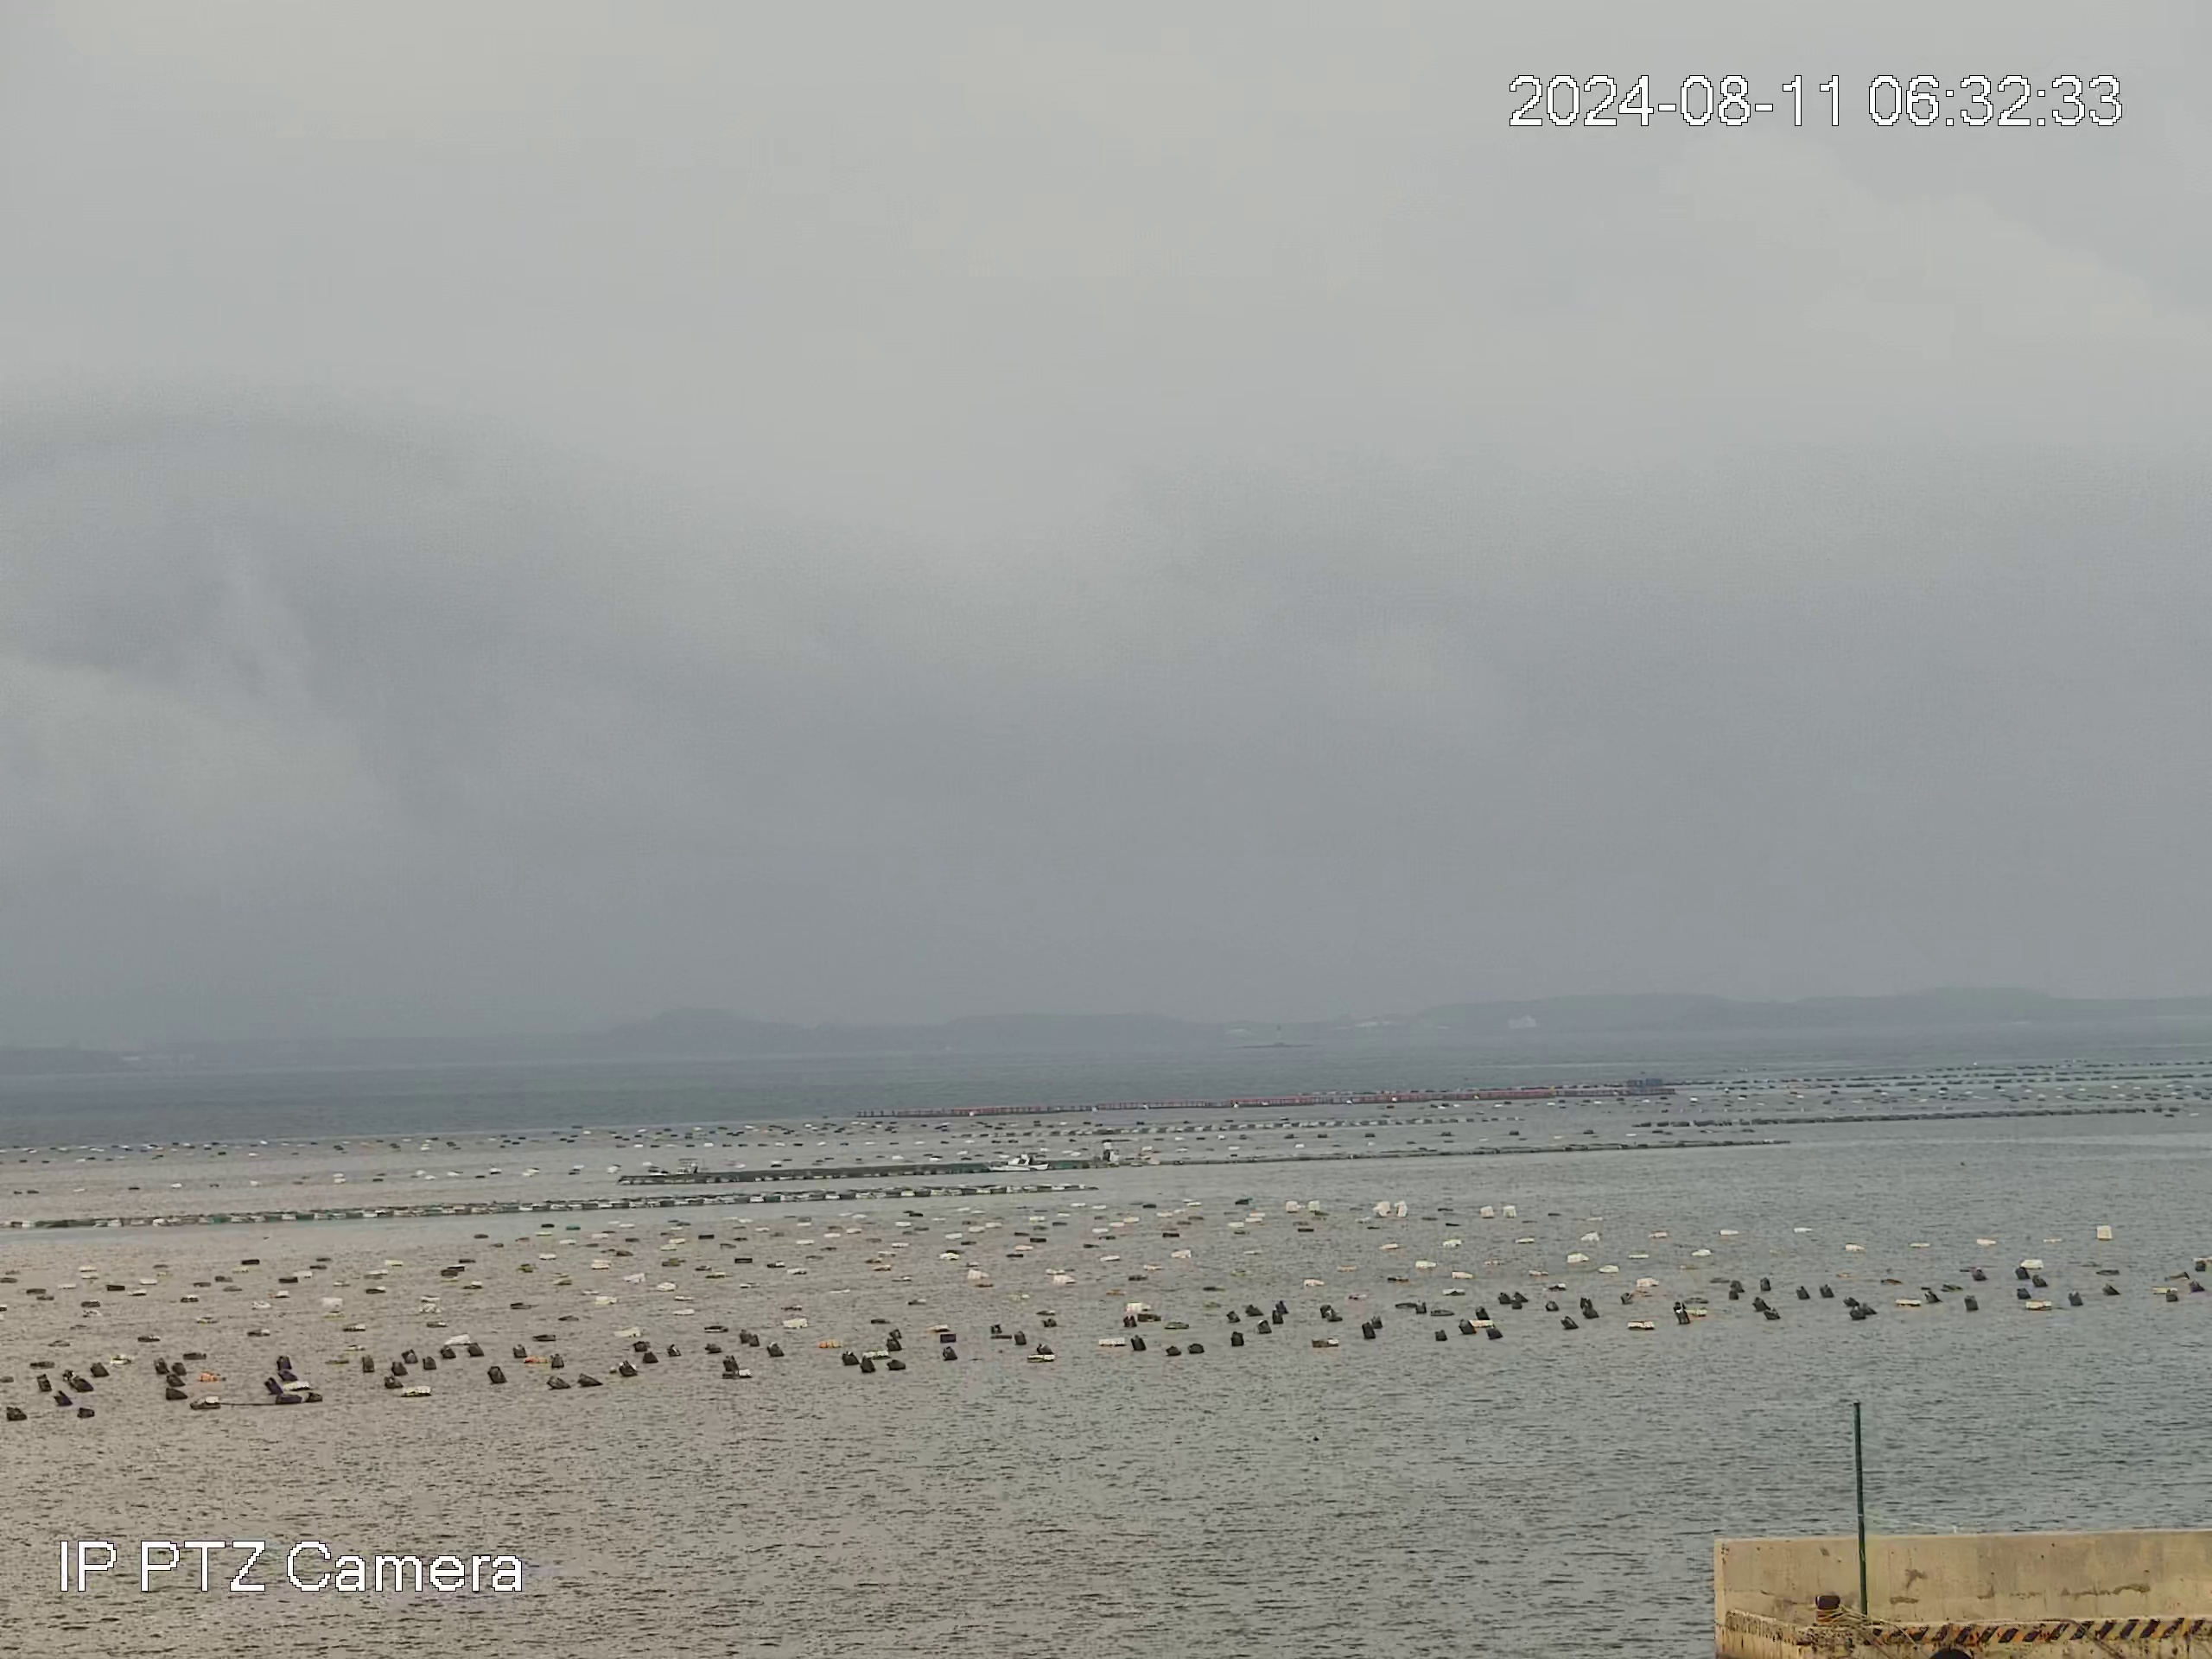boat: (982, 1153, 1050, 1173)
